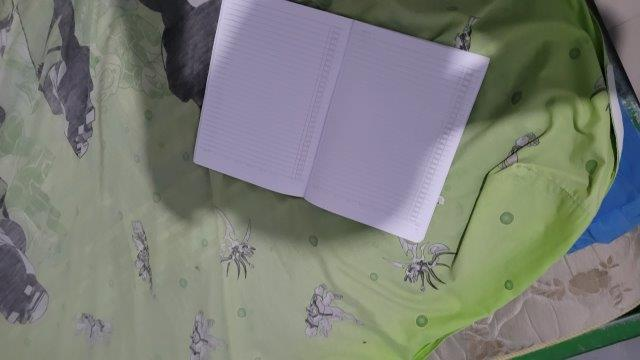kertas: (192, 1, 490, 243)
